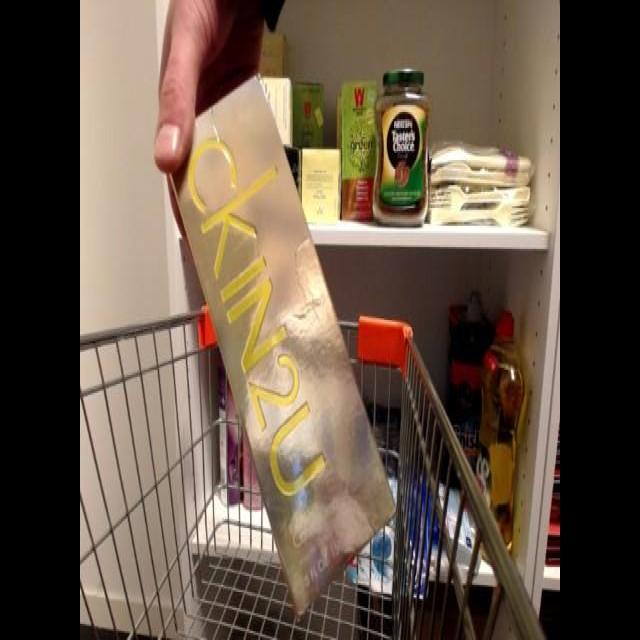Calvin Klein: (154, 66, 402, 620)
